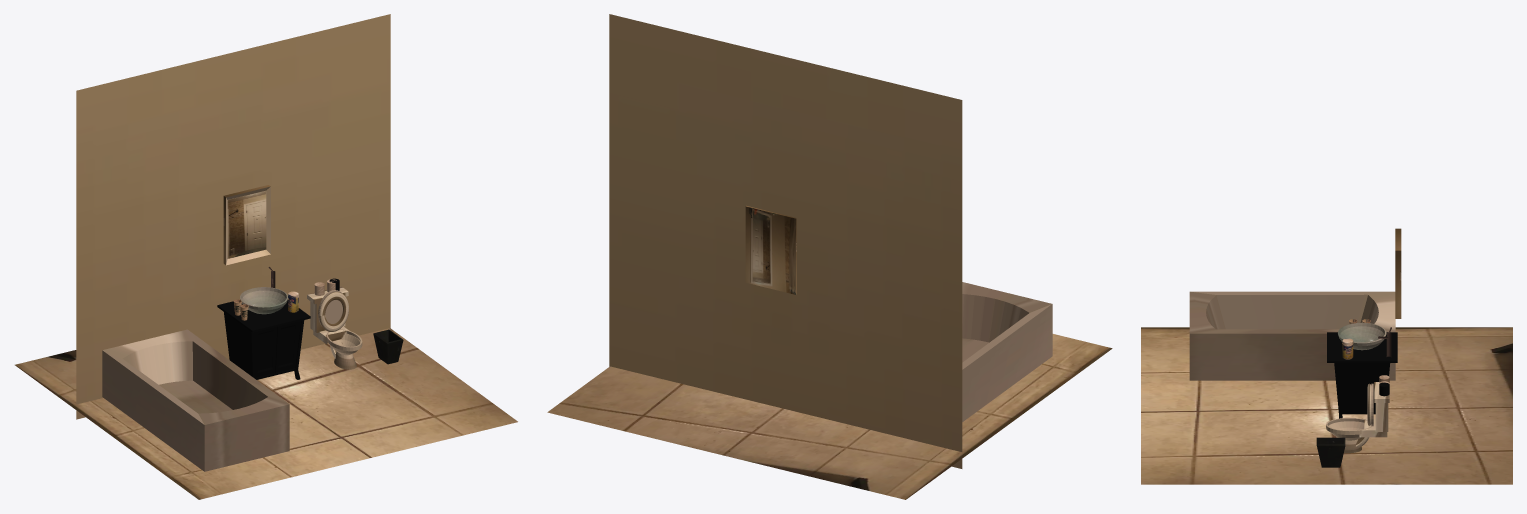
The model's file is Assignment3.fbx.
The picture shows the model from 3 angles, left to right: view 1: azimuth 30°, elevation 25°; view 2: azimuth 150°, elevation 25°; view 3: azimuth 270°, elevation 25°; orthographic projection. The views are drawn at different scales.
Parts seen in each view (by area): view 1: Plane.001, Plane, Bath, Table, Minor, Circle, Toilet, Trash, Torus.001; view 2: Plane.001, Plane, Bath, Minor; view 3: Plane, Bath, Table, Circle, Toilet, Trash, Minor, Cube.001.
Part boxes in pixels (<box>): Plane.001: <box>76,14,390,419</box>; Plane: <box>15,328,517,499</box>; Bath: <box>102,329,289,471</box>; Table: <box>217,300,310,379</box>; Minor: <box>223,185,270,265</box>; Circle: <box>240,287,287,314</box>; Toilet: <box>326,329,362,369</box>; Trash: <box>373,329,403,364</box>; Torus.001: <box>319,291,348,331</box>; Plane.001: <box>609,14,962,468</box>; Plane: <box>547,334,1112,499</box>; Bath: <box>962,282,1052,421</box>; Minor: <box>745,205,796,294</box>; Plane: <box>1141,327,1512,484</box>; Bath: <box>1189,291,1395,380</box>; Table: <box>1327,332,1397,418</box>; Circle: <box>1338,322,1386,350</box>; Toilet: <box>1326,418,1371,453</box>; Trash: <box>1316,437,1345,467</box>; Minor: <box>1395,228,1401,318</box>; Cube.001: <box>1374,382,1389,431</box>.
Size of the model in its own units: 4003 by 3930 by 3996.
